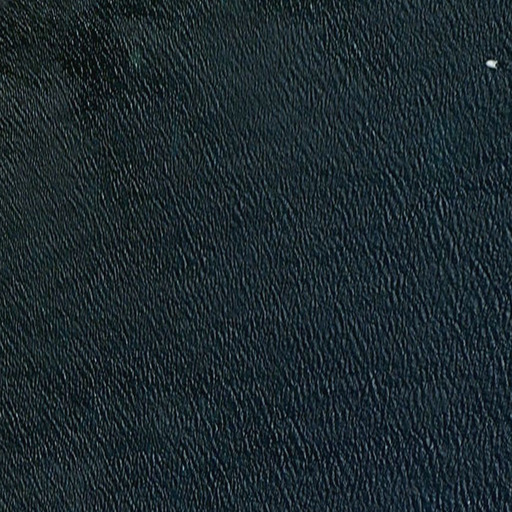ship: (484, 59, 499, 70)
